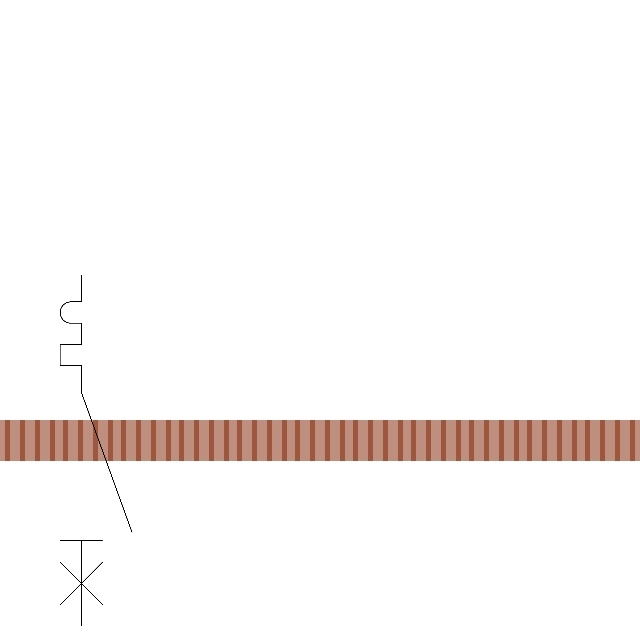interruptor_termomagnetico: (51, 266, 141, 635)
